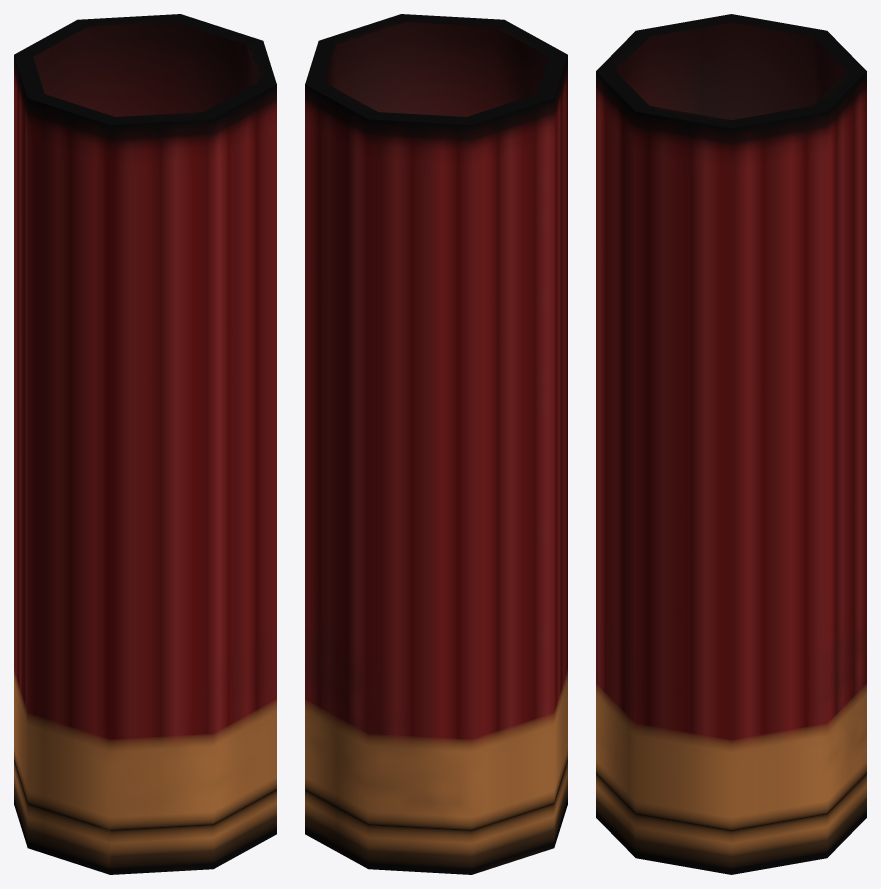
Rendered from XM1014_Round.fbx.
3 renders of one model, left to right at view 1: azimuth 30°, elevation 25°; view 2: azimuth 150°, elevation 25°; view 3: azimuth 270°, elevation 25°, orthographic.
Parts seen in each view (by area): view 1: Round; view 2: Round; view 3: Round.
Part boxes in pixels (x1,y1,x2,y2): Round: (14,14,276,874); Round: (305,14,567,874); Round: (596,14,866,874).
Bounding box in the file's own units: 17.6 × 53.51 × 17.6.
